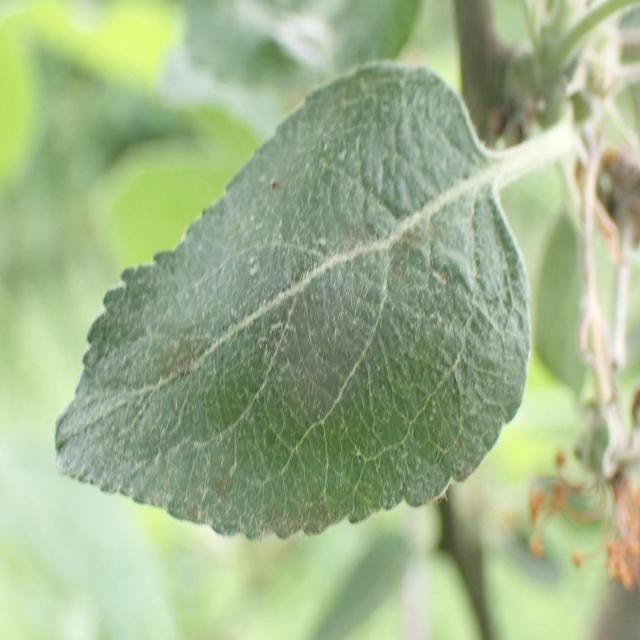Powdery_mildew: (79, 73, 520, 531)
